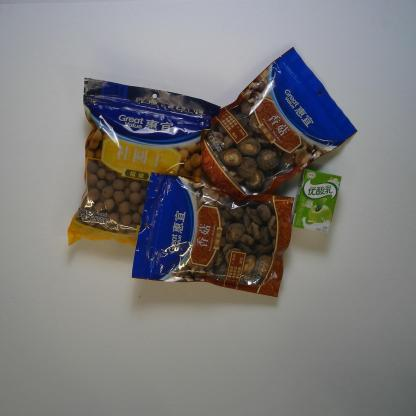Dried Food: (66, 76, 222, 249), (201, 46, 358, 198), (131, 171, 296, 298)
Milk: (291, 168, 343, 235)
